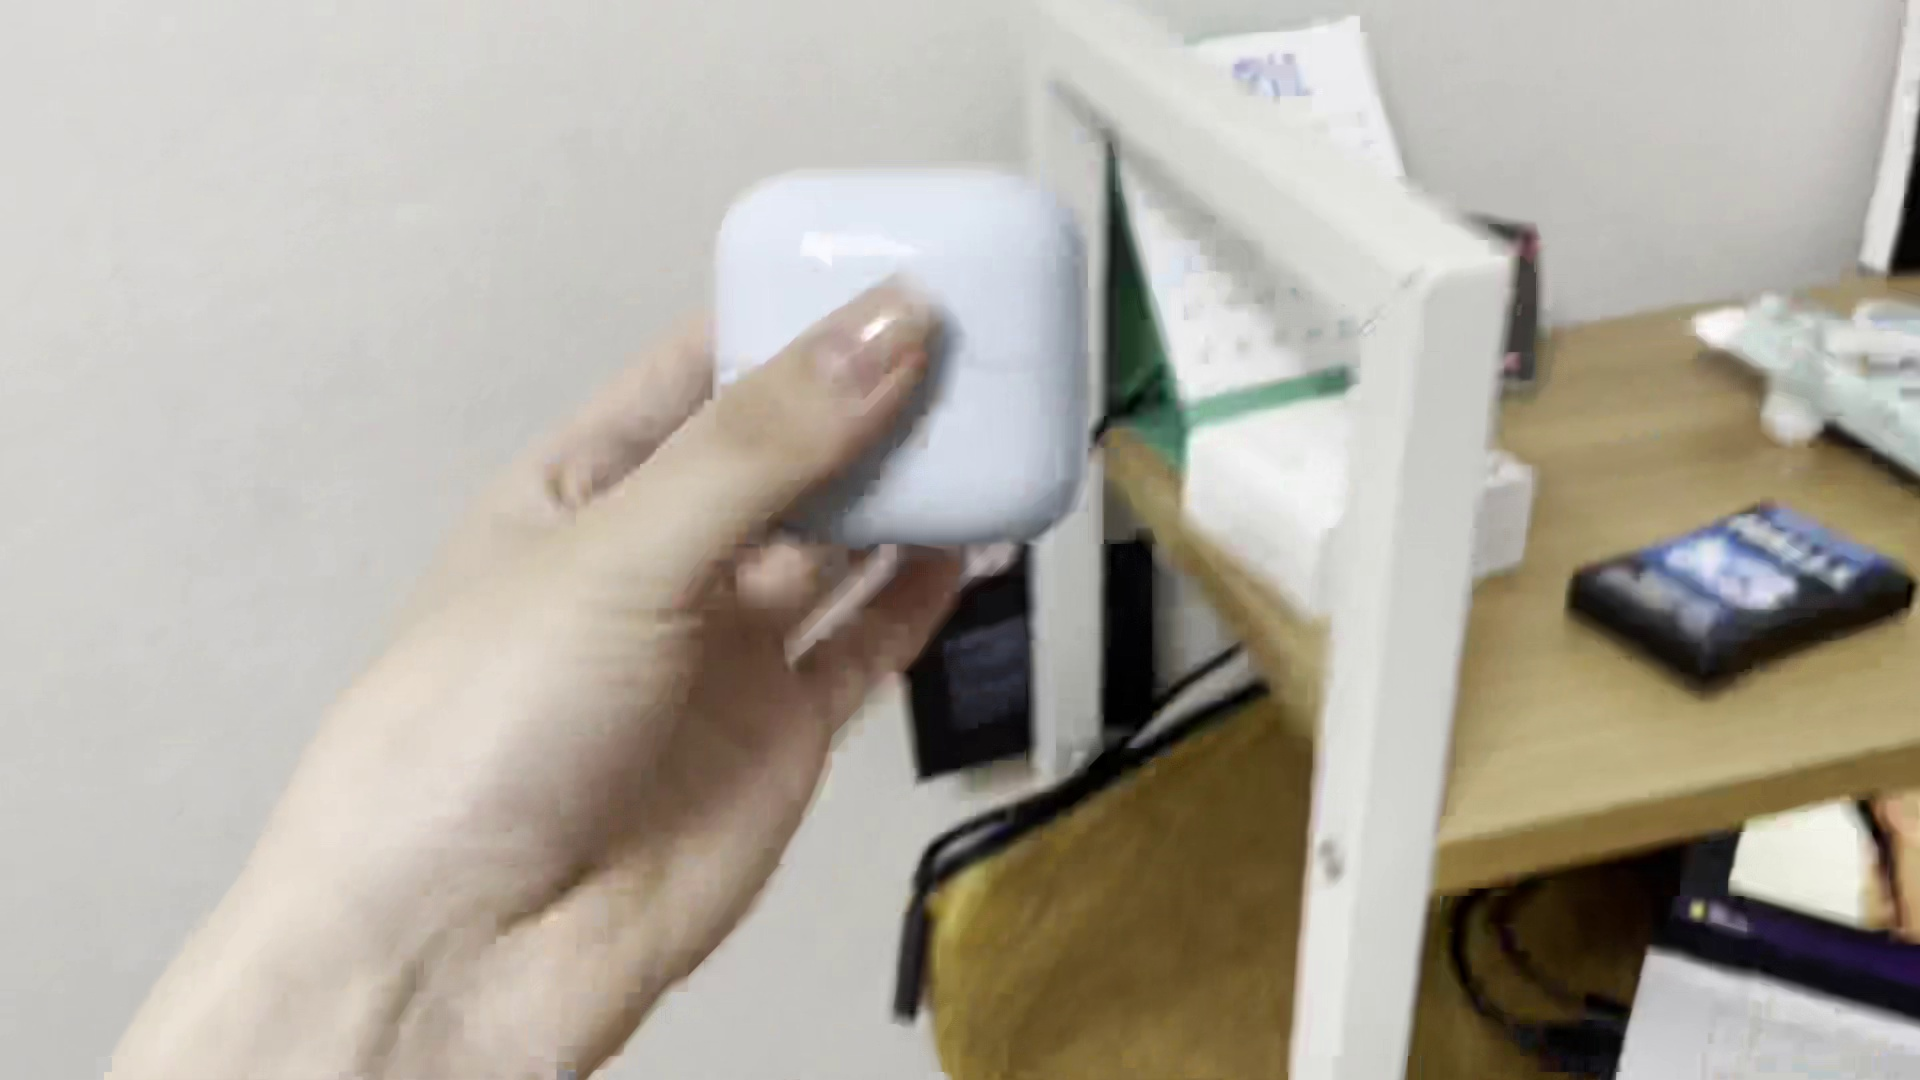cream: (709, 167, 1083, 533)
